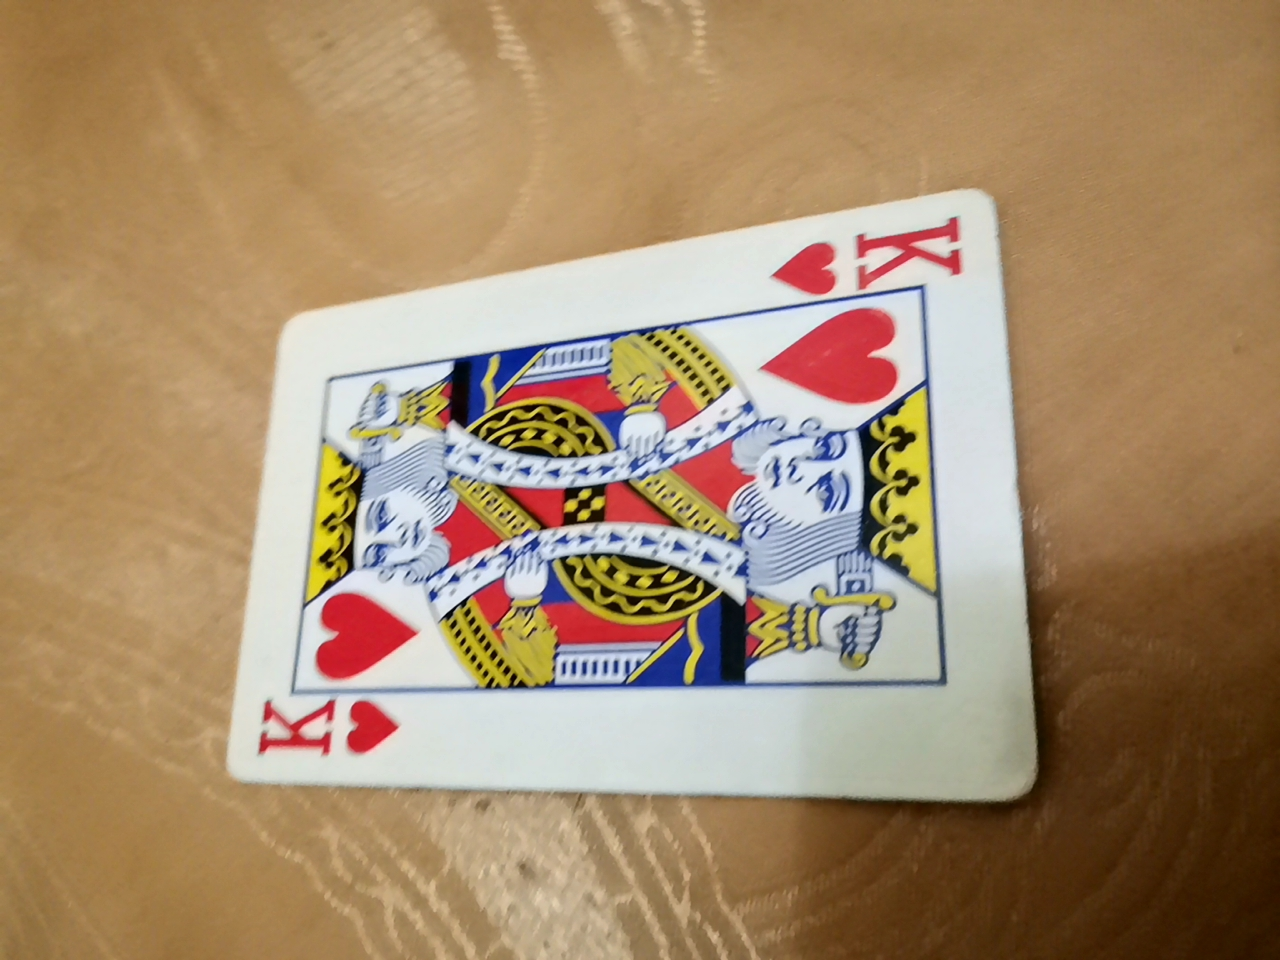hx k: (245, 182, 1053, 756)
